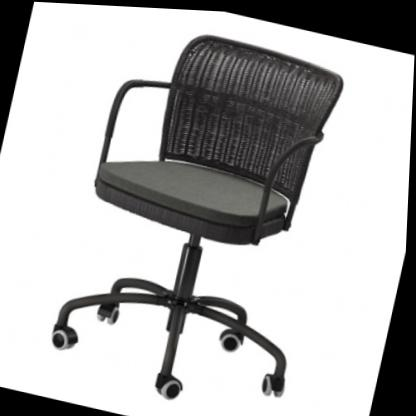Chair: (41, 7, 359, 416)
